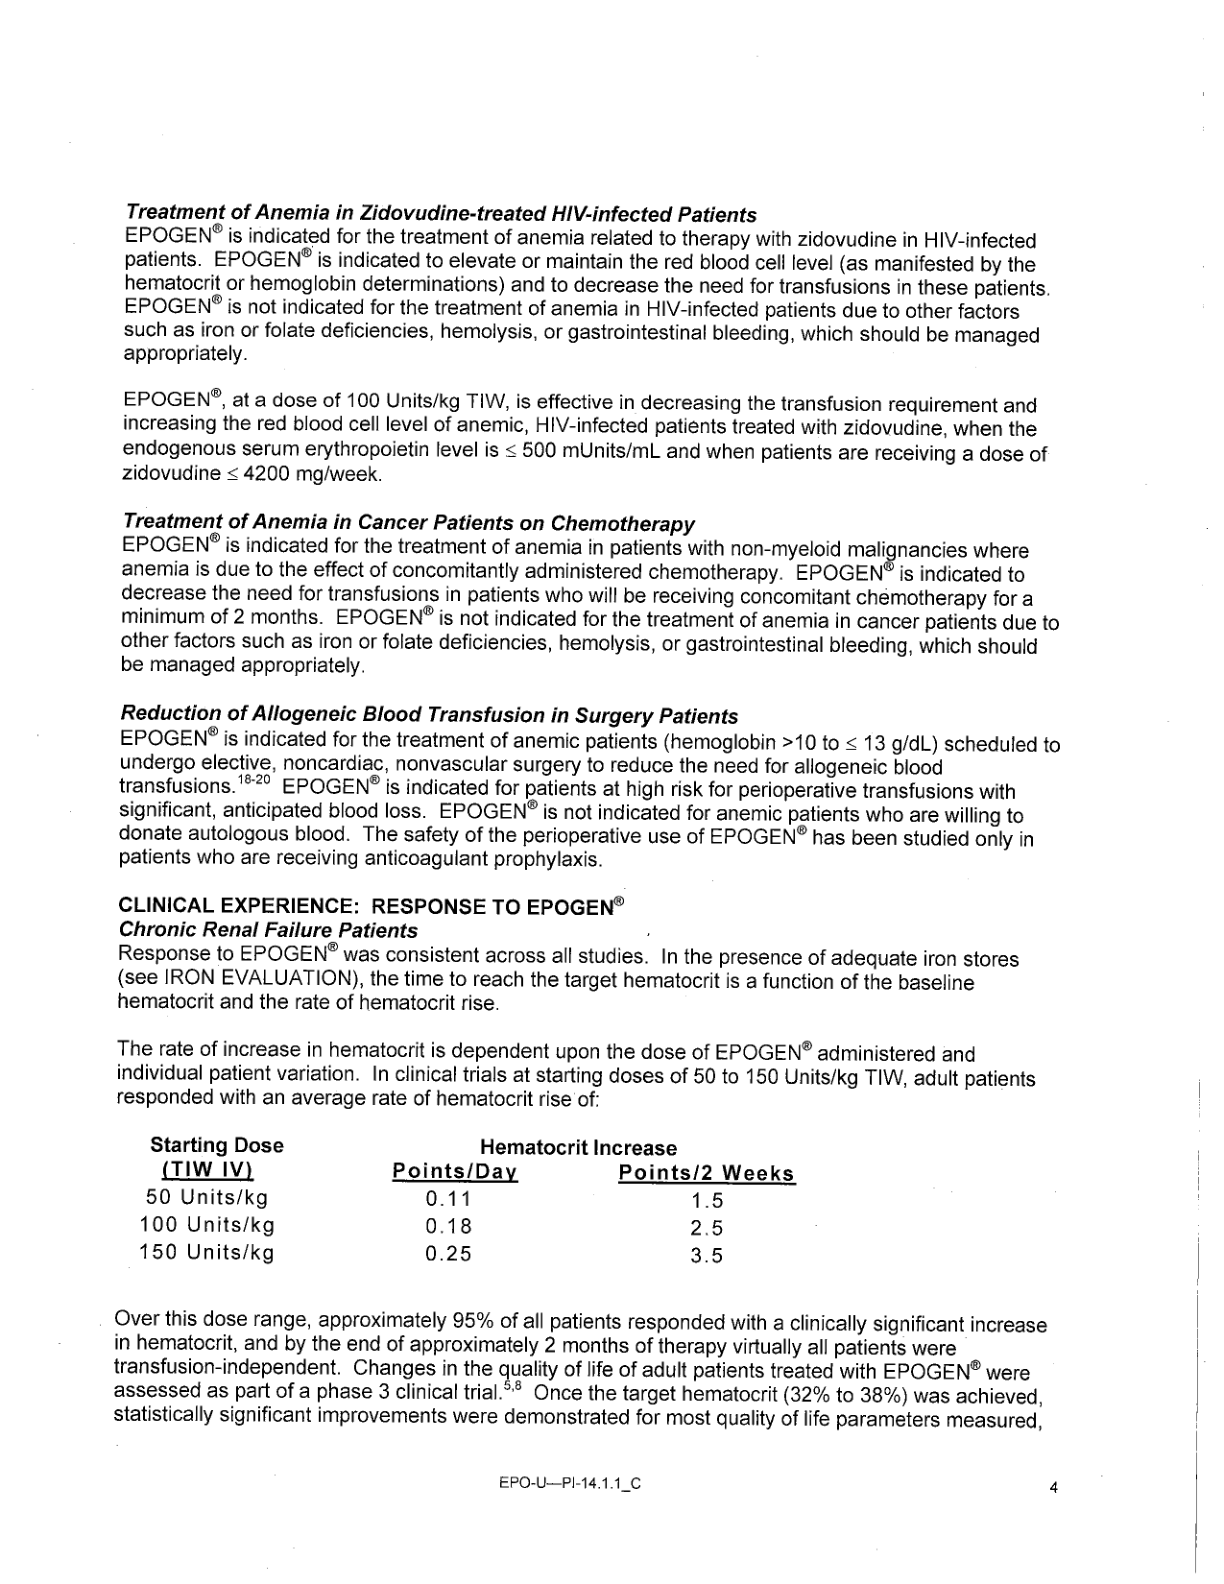nolines: (138, 1137, 798, 1265)
